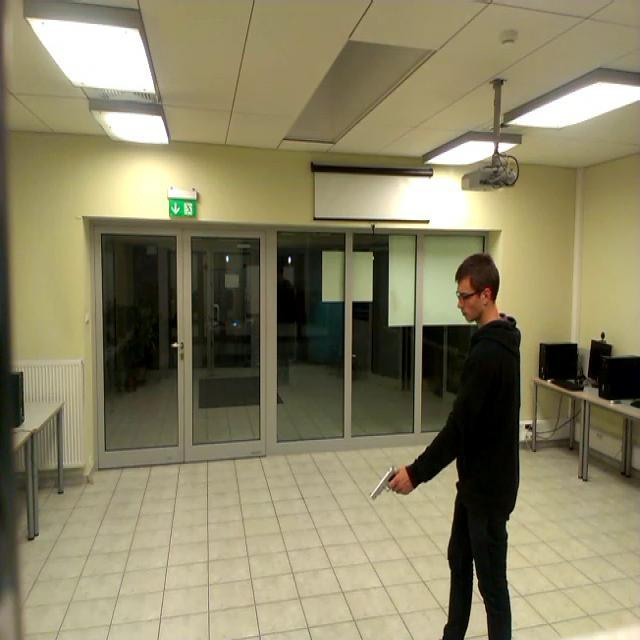Gun: (370, 464, 404, 500)
